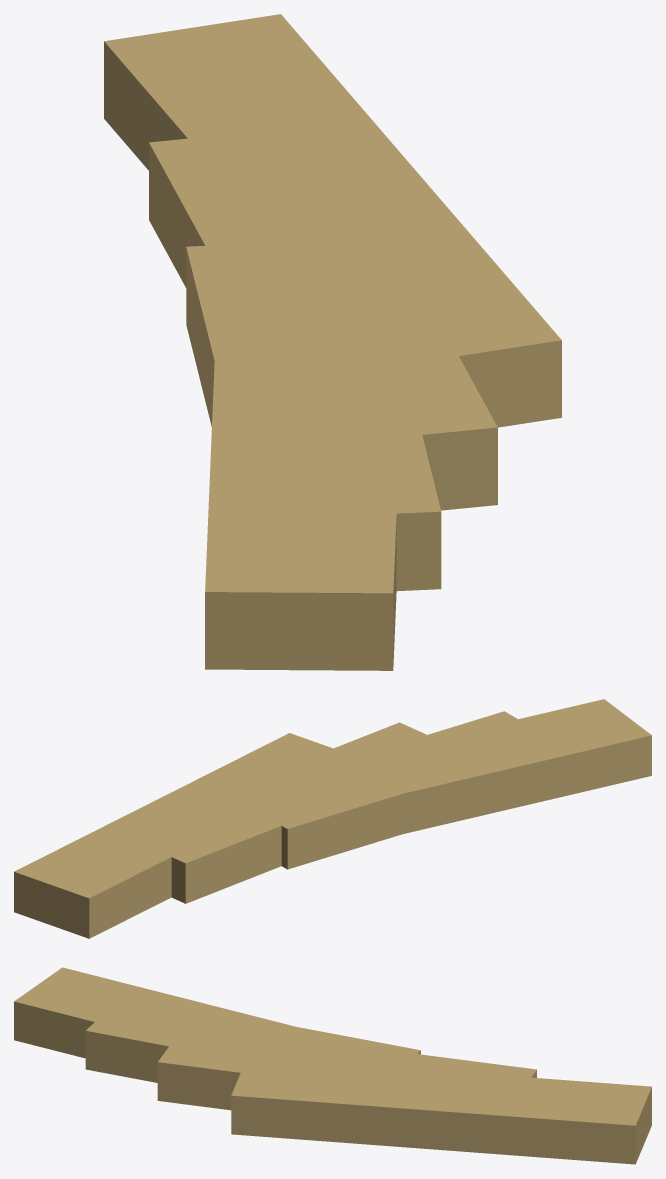
Rendered from hua_wing_gold.glb.
3 views of the same model, one above another, from view 1: azimuth 30°, elevation 25°; view 2: azimuth 150°, elevation 25°; view 3: azimuth 270°, elevation 25° (orthographic). The views are drawn at different scales.
Visible parts, largest first — view 1: world; view 2: world; view 3: world.
Part boxes in pixels (x1,y1,x2,y2): world: [104, 14, 561, 670]; world: [14, 699, 651, 938]; world: [14, 967, 651, 1164].
Size of the model in its own units: 0.219 by 0.025 by 0.3728.
